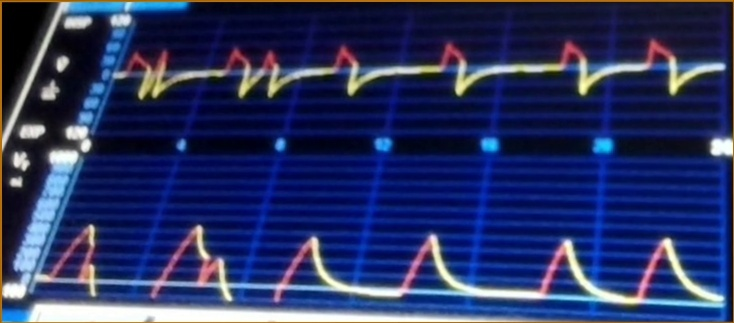Double_Triggering Flow: (122, 41, 721, 112)
Double_Triggering Volume: (42, 221, 722, 302)
